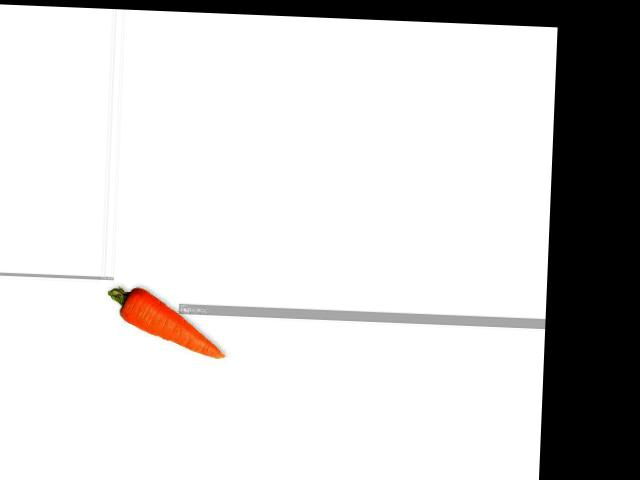carrot: (105, 284, 228, 361)
